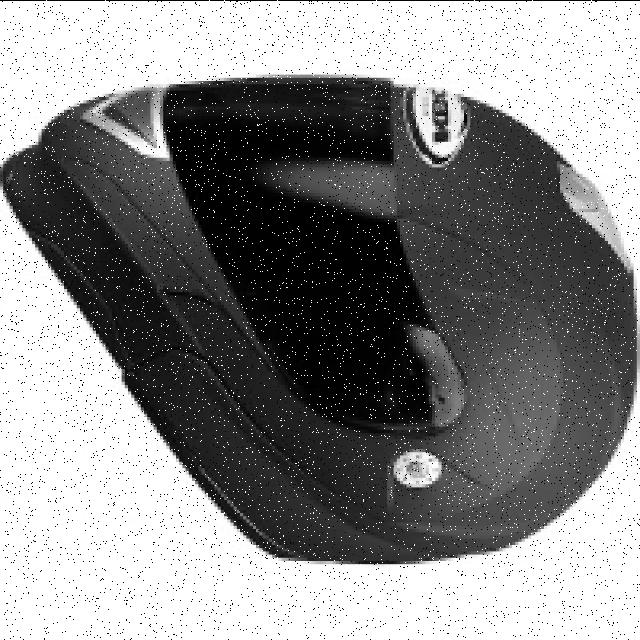Helmet: (3, 78, 636, 562)
